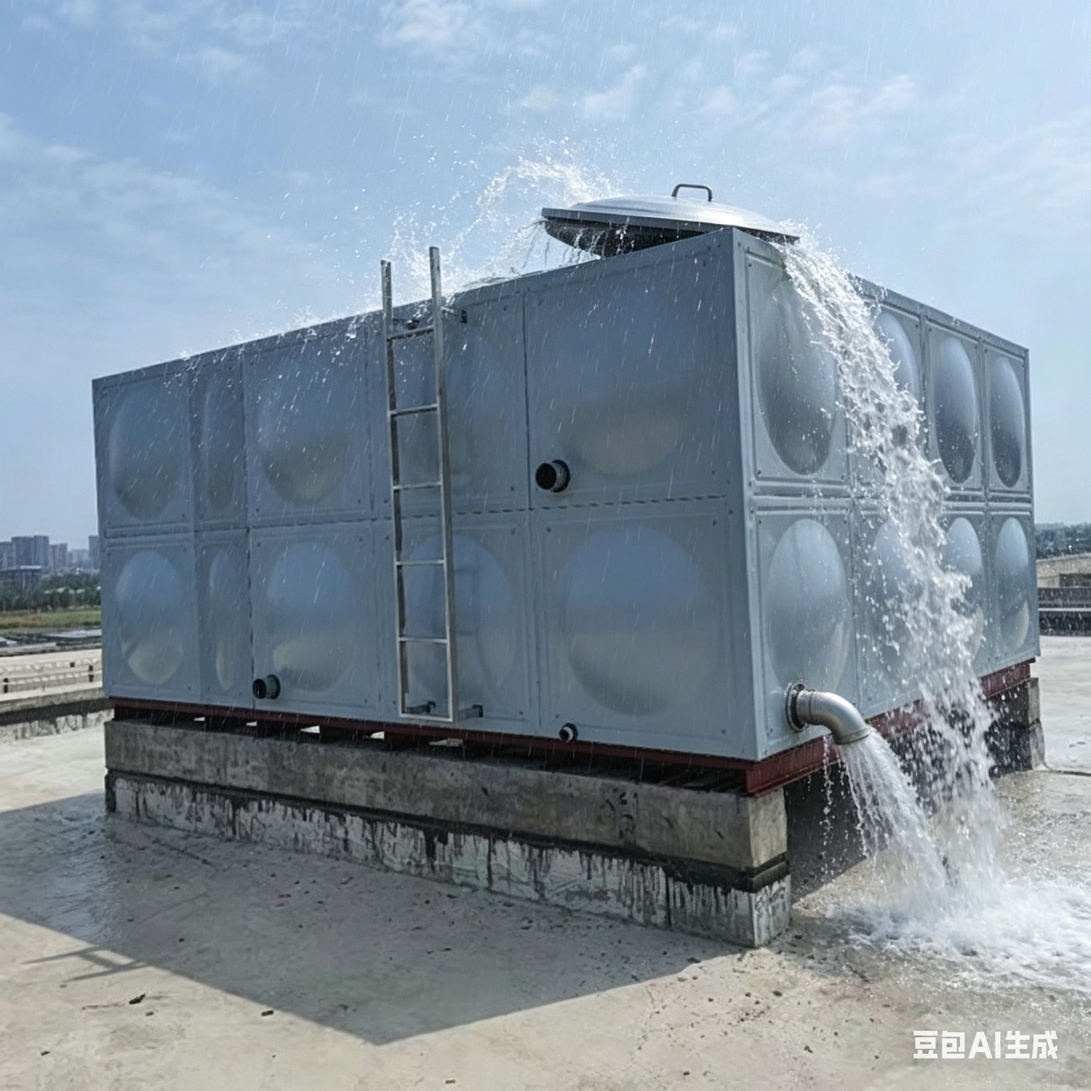Leakage: (760, 235, 1087, 975), (351, 174, 734, 287)
